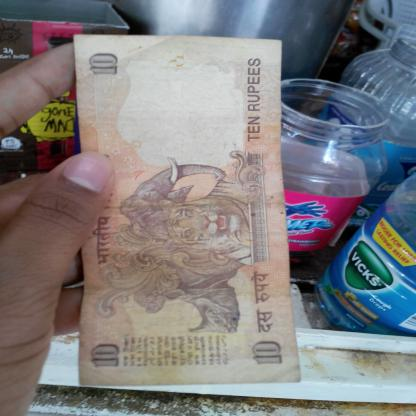Old10Back: (70, 32, 302, 388)
